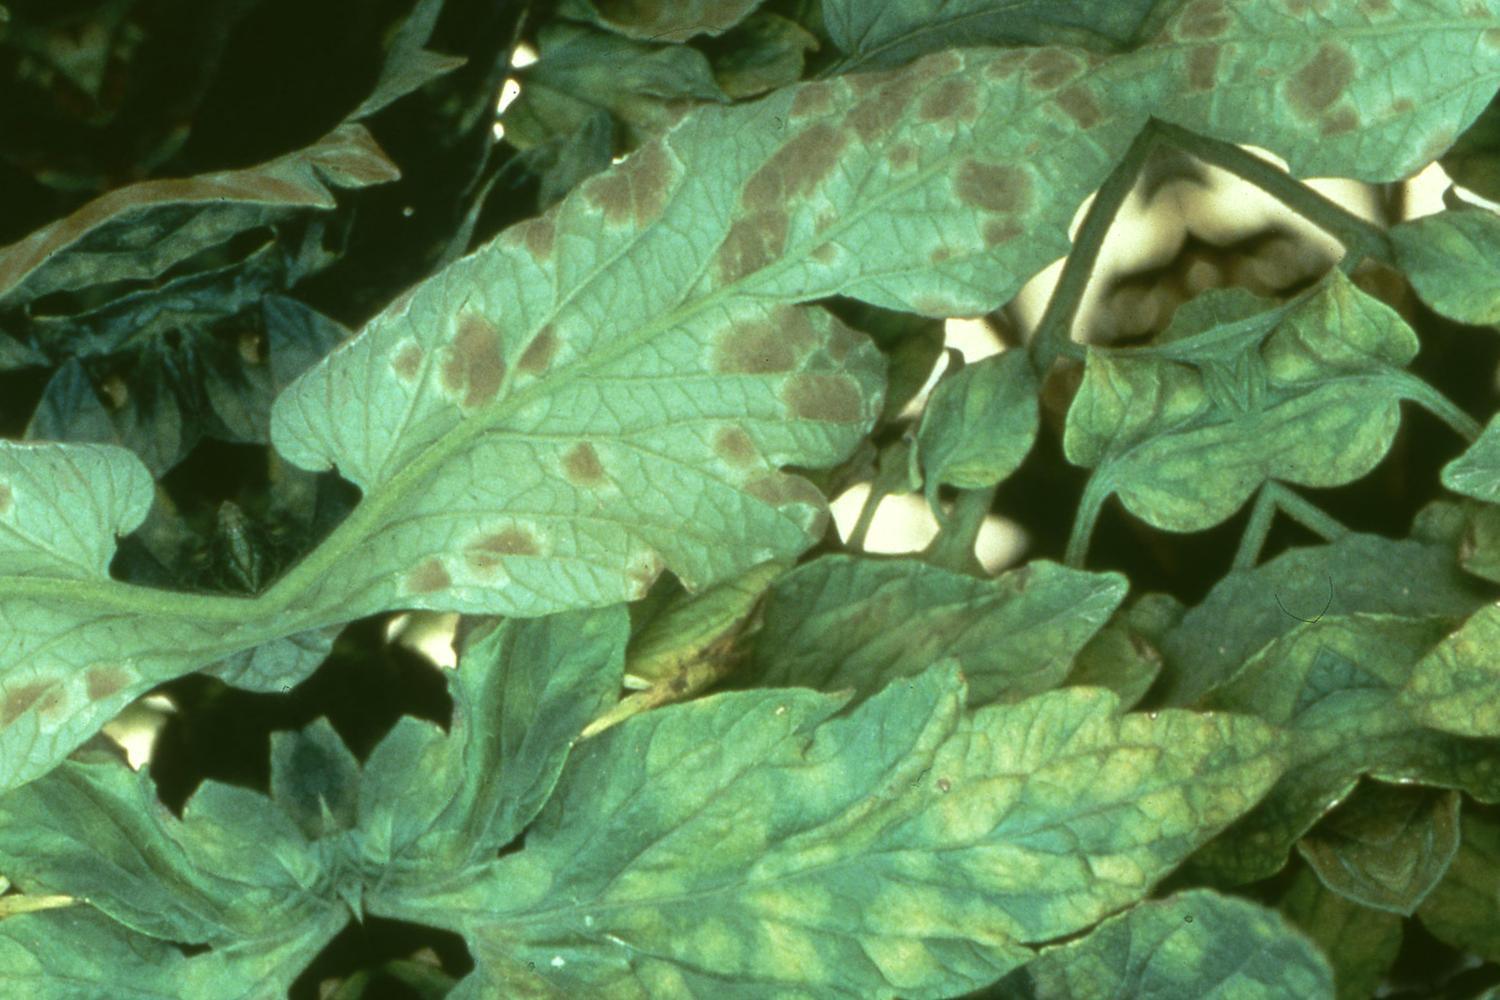Tomato mold leaf: (176, 0, 1248, 713), (370, 531, 1366, 1000), (527, 863, 1255, 1000), (1027, 284, 1280, 573)
